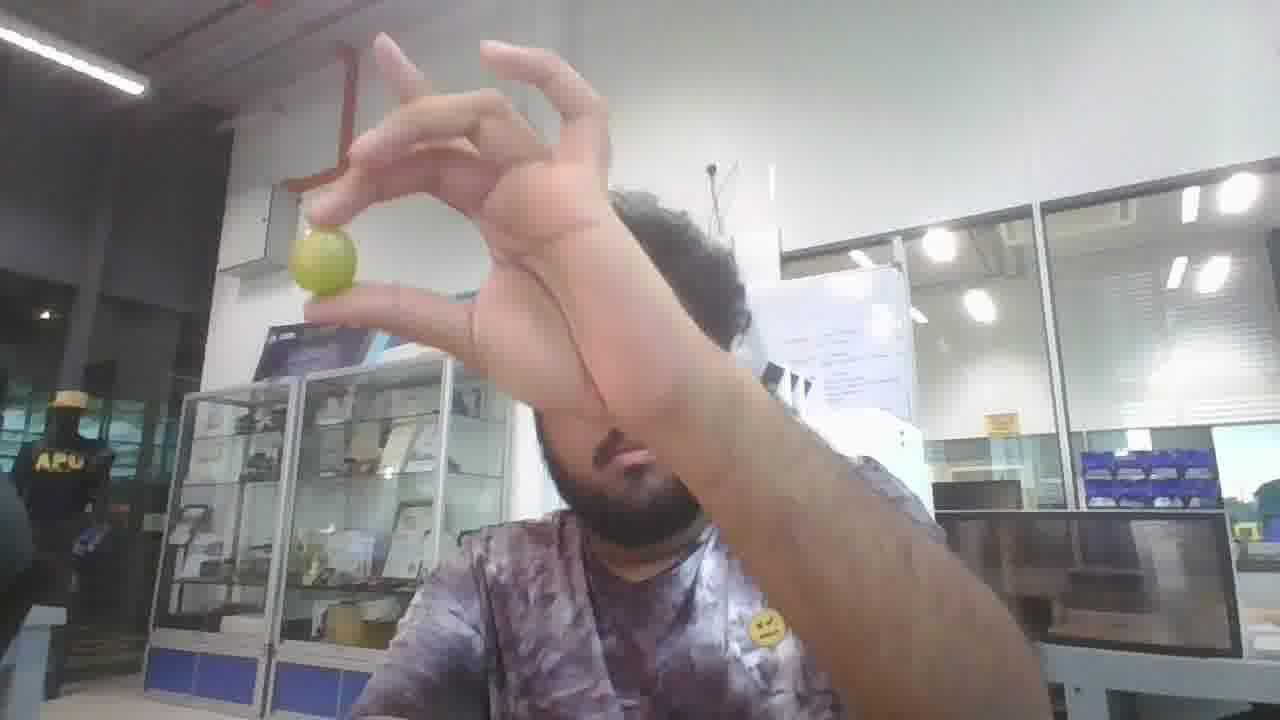green_cherry_tomato: (289, 228, 356, 295)
